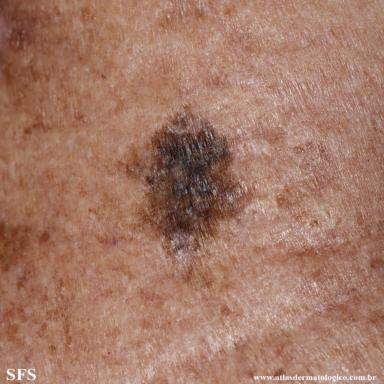Melanoma: (124, 106, 249, 276)
